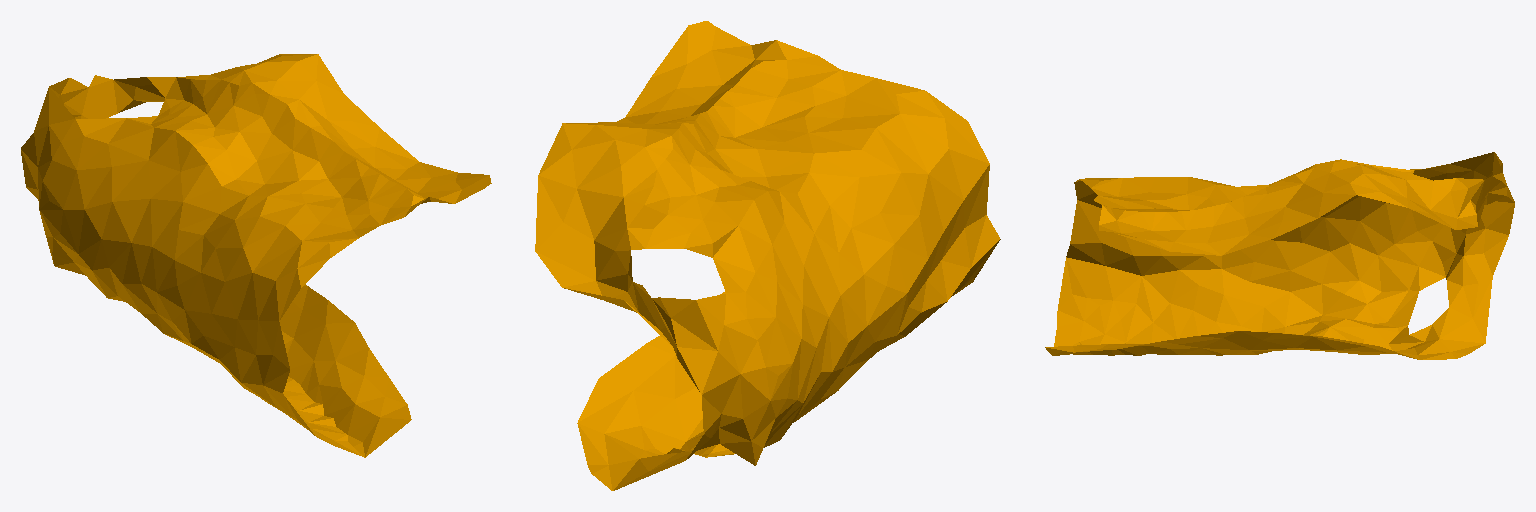
The robot description file, URDF, robot "init":
<?xml version='1.0' encoding='utf-8'?>
<robot name="init">
<link name="link_0"><inertial><mass value="1.0" /><origin rpy="0 0 0" xyz="0.000000 0.000000 0.000000" /><inertia ixx="1.0" ixy="0.0" ixz="0.0" iyy="1.0" iyz="0.0" izz="1.0" /></inertial><visual><origin rpy="0 0 0" xyz="0.000000 0.000000 0.000000" /><geometry><mesh filename="./clothHuman/cloth/2749.obj" /></geometry></visual><collision><origin rpy="0 0 0" xyz="0.000000 0.000000 0.000000" /><geometry><mesh filename="./clothHuman/cloth/2749.obj" /></geometry></collision></link></robot>

--- Render facts (derived) ---
The picture shows the robot from 3 angles, left to right: view 1: azimuth 30°, elevation 25°; view 2: azimuth 150°, elevation 25°; view 3: azimuth 270°, elevation 25°; orthographic projection.
Robot: init — 1 links, 0 joints (none); root link link_0; default pose: every joint at zero.
Links seen in each view (by area): view 1: link_0; view 2: link_0; view 3: link_0.
Link boxes in pixels (bbox=[...]): link_0: bbox=[21, 54, 491, 457]; link_0: bbox=[535, 21, 1000, 490]; link_0: bbox=[1045, 152, 1514, 359].
Size in the robot's own frame: 2.18 by 3.91 by 1.99 metres.
1 mesh visuals loaded from 1 distinct referenced files (1 OBJ).